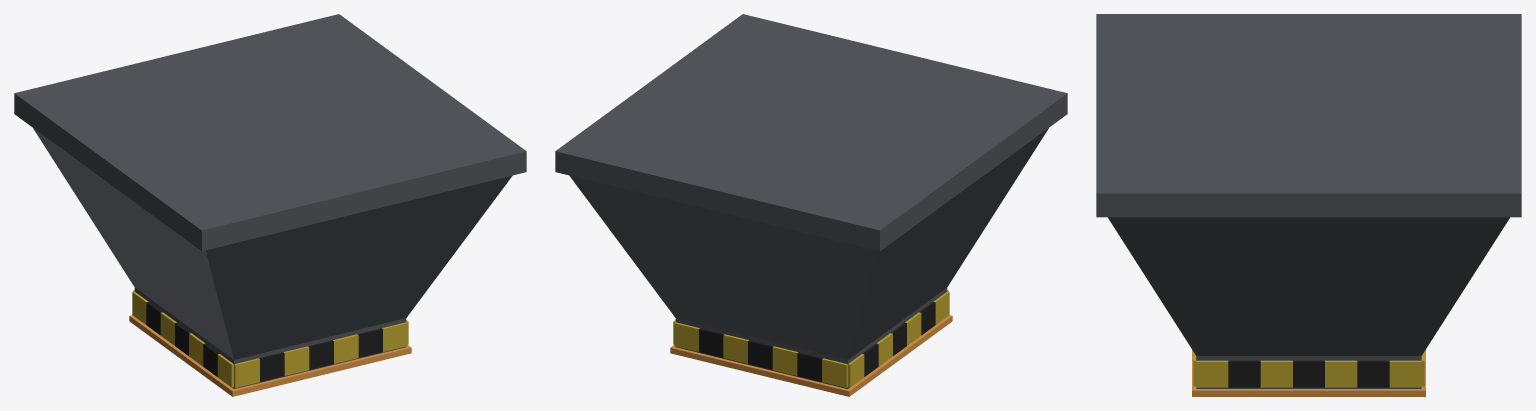
Rendered from trial_hopper.glb.
3 views of the same model, side by side, from view 1: azimuth 30°, elevation 25°; view 2: azimuth 150°, elevation 25°; view 3: azimuth 270°, elevation 25° (orthographic). The views are drawn at different scales.
Parts seen in each view (by area): view 1: trial_hopper; view 2: trial_hopper; view 3: trial_hopper.
Boxes of the visible parts, left/top/right/bottom form: trial_hopper: left=14, top=14, right=526, bottom=396; trial_hopper: left=555, top=14, right=1067, bottom=396; trial_hopper: left=1096, top=14, right=1521, bottom=396.
Bounding box in the file's own units: 0.98 × 0.62 × 0.98.
